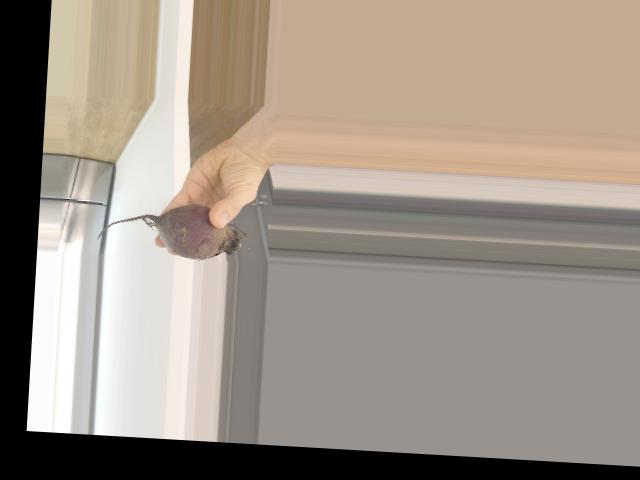beet: (96, 200, 248, 262)
